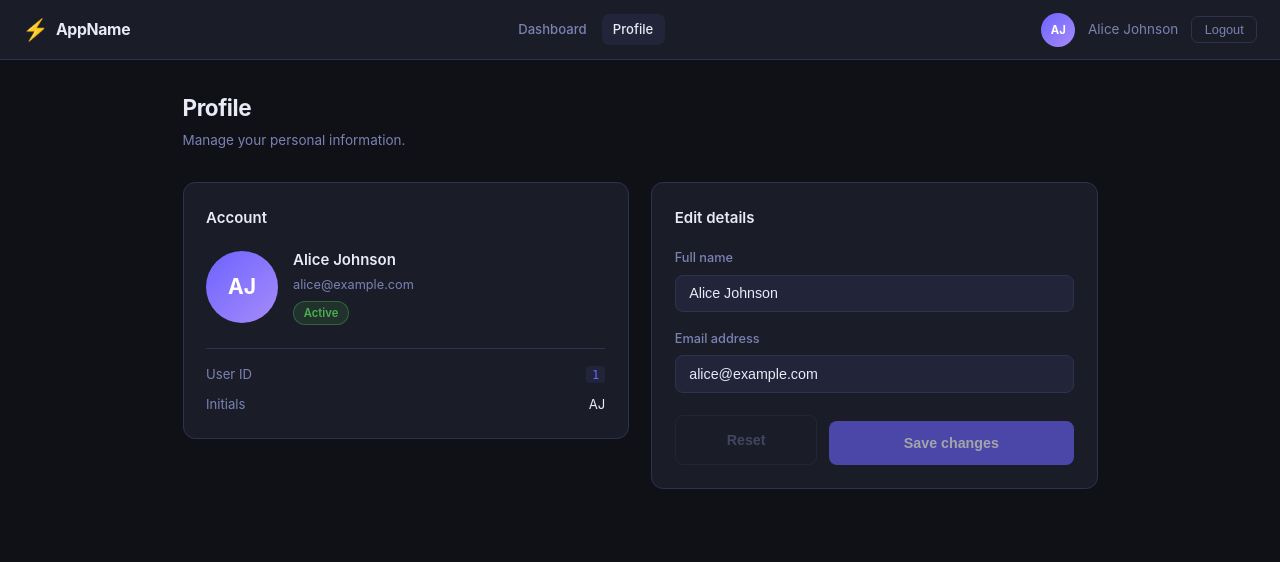
Test case: ProfilePage — submission › shows an AuthError message on failure
Replace the text in the field labelled "Email address" with "taken@example.com" at (874, 374), box [675,355,1074,393]
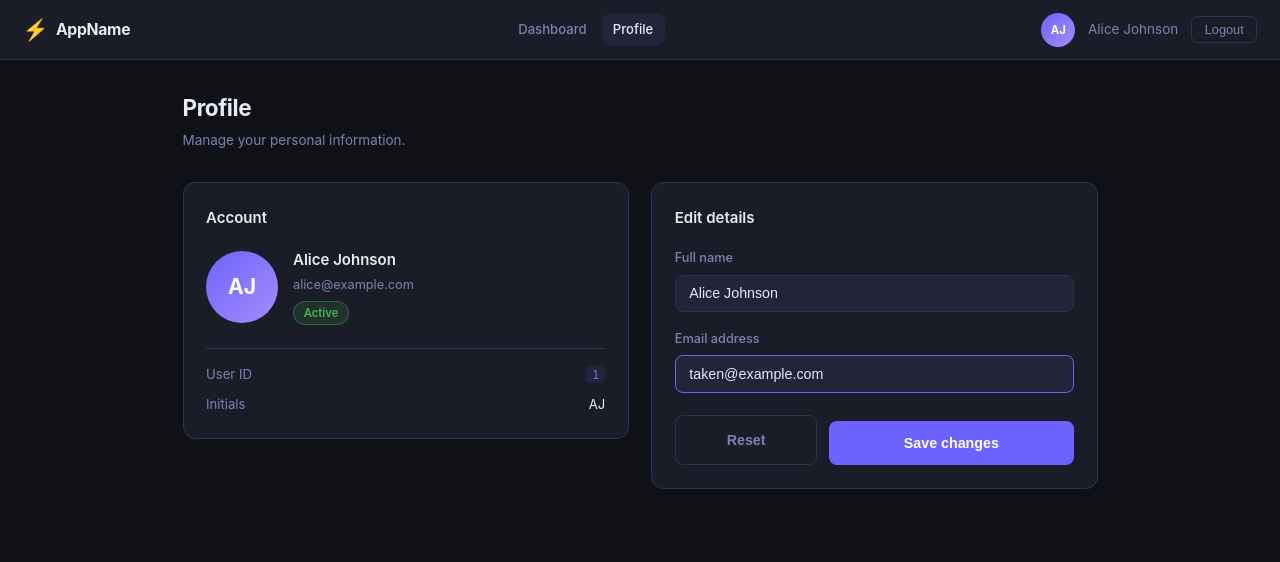
Click the button "Save changes" at (951, 443), box [829,421,1074,465]
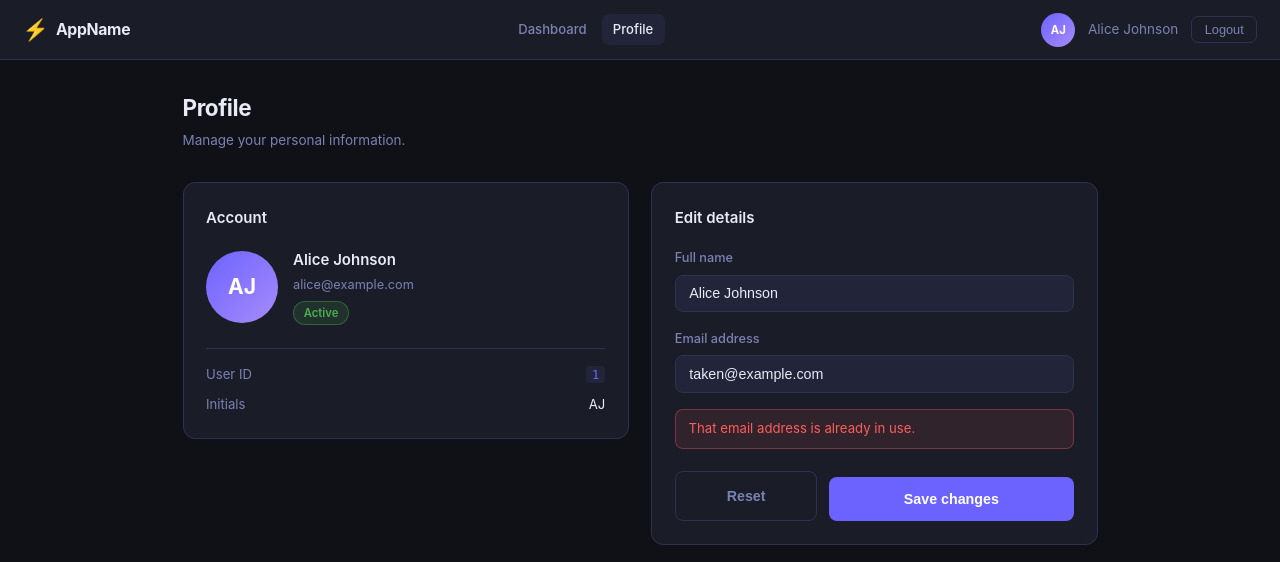
Check: the message reads "That email address is already in use.", box [688,420,915,436]
